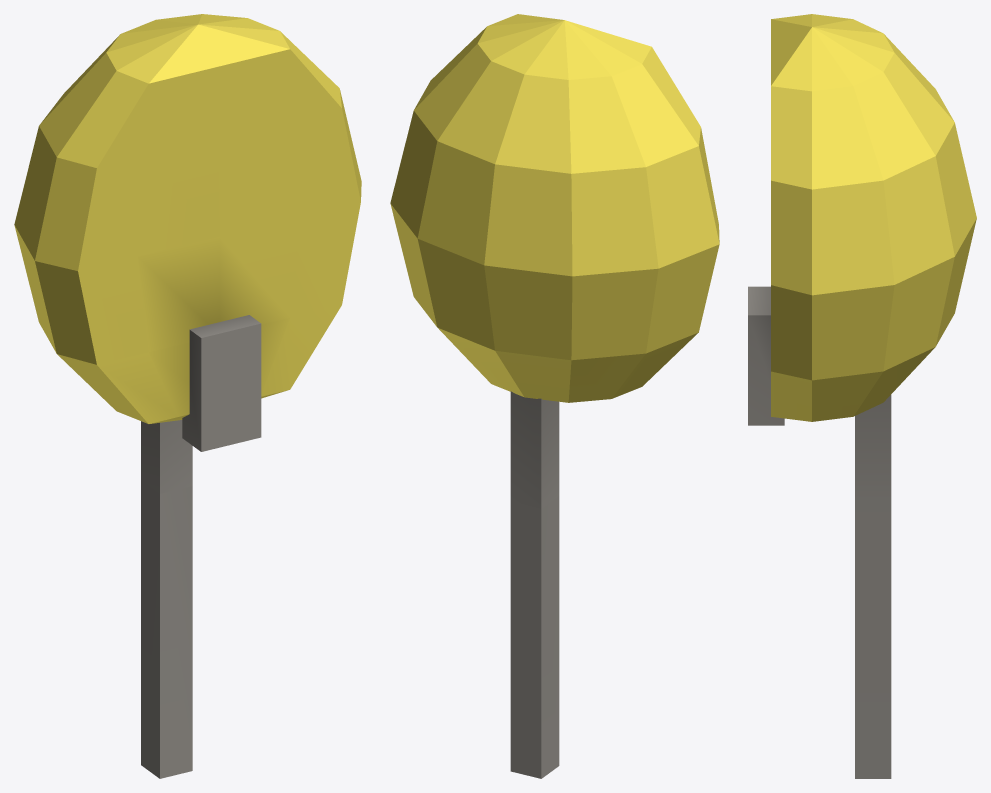
Rendered from orelhao.glb.
3 renders of one model, left to right at view 1: azimuth 30°, elevation 25°; view 2: azimuth 150°, elevation 25°; view 3: azimuth 270°, elevation 25°, orthographic. The views are drawn at different scales.
Visible parts, largest first — view 1: concha, poste, fone; view 2: concha, poste; view 3: concha, poste, fone.
Boxes of the visible parts, x1=… form: concha: x1=14, y1=14, x2=361, y2=423; poste: x1=141, y1=420, x2=192, y2=778; fone: x1=182, y1=315, x2=261, y2=451; concha: x1=390, y1=14, x2=719, y2=402; poste: x1=510, y1=391, x2=559, y2=778; concha: x1=771, y1=14, x2=976, y2=421; poste: x1=855, y1=394, x2=891, y2=778; fone: x1=748, y1=286, x2=784, y2=425.
Size of what is drawn, in the model's own units: 1.2 by 2.69 by 0.75.
